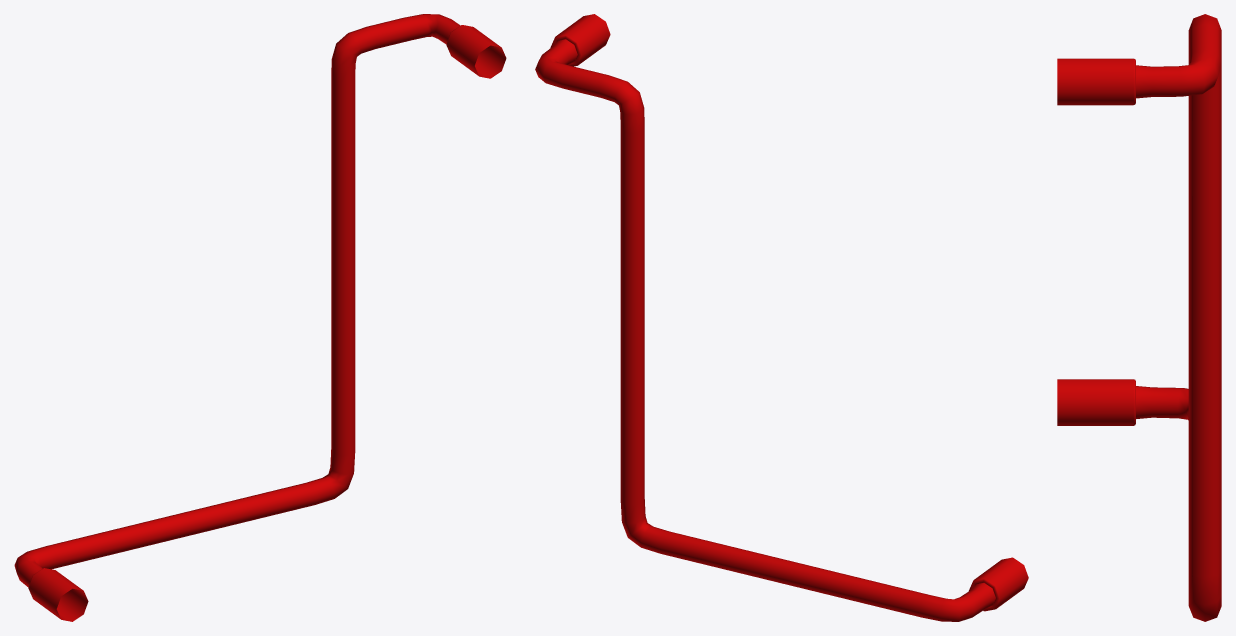
Rendered from Wire_Head_Red(oB-Motor_B).obj.
3 views of the same model, side by side, from view 1: azimuth 30°, elevation 25°; view 2: azimuth 150°, elevation 25°; view 3: azimuth 270°, elevation 25° (orthographic). The views are drawn at different scales.
Parts seen in each view (by area): view 1: Wire_Head_Red(oB-Motor_B); view 2: Wire_Head_Red(oB-Motor_B); view 3: Wire_Head_Red(oB-Motor_B).
Part boxes in pixels (x1=…): Wire_Head_Red(oB-Motor_B): x1=14, y1=14, x2=506, y2=621; Wire_Head_Red(oB-Motor_B): x1=535, y1=14, x2=1028, y2=621; Wire_Head_Red(oB-Motor_B): x1=1057, y1=14, x2=1221, y2=621.
Size of the model in its own units: 0.0848 by 0.0854 by 0.0198.
